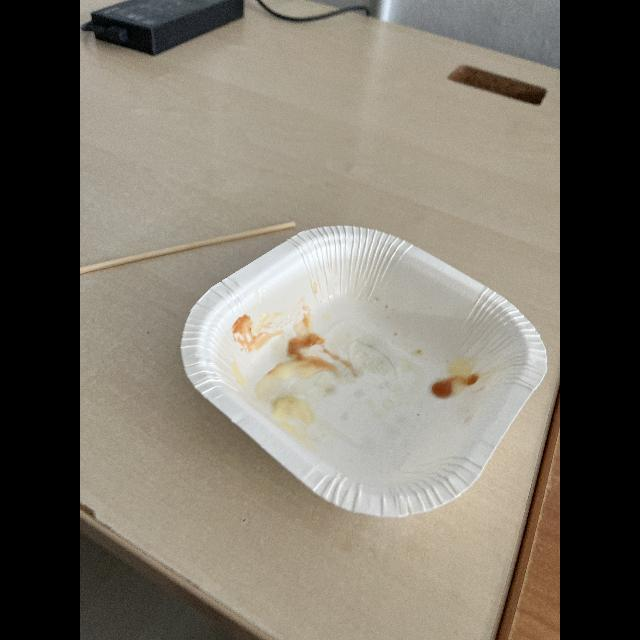cardboard_bowl: (176, 220, 550, 522)
stick: (80, 217, 300, 280)
